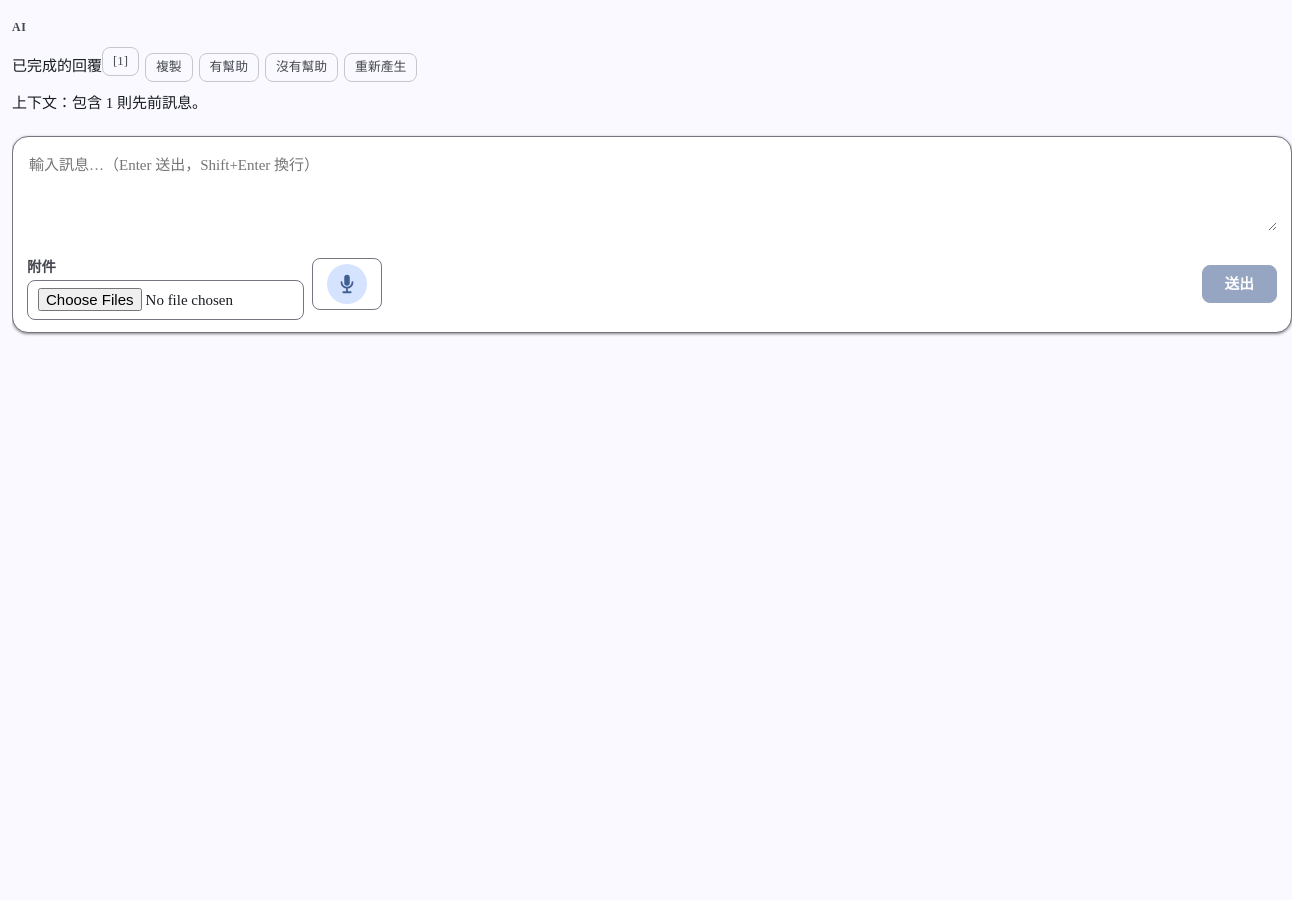
MessageThread citation preview (E03-S014) › closing the preview drawer removes it from the page
The image size is (1292, 900).
Step 1. Click the button named "檢視引用來源 1" → x=120, y=61, box [102,46,139,76]
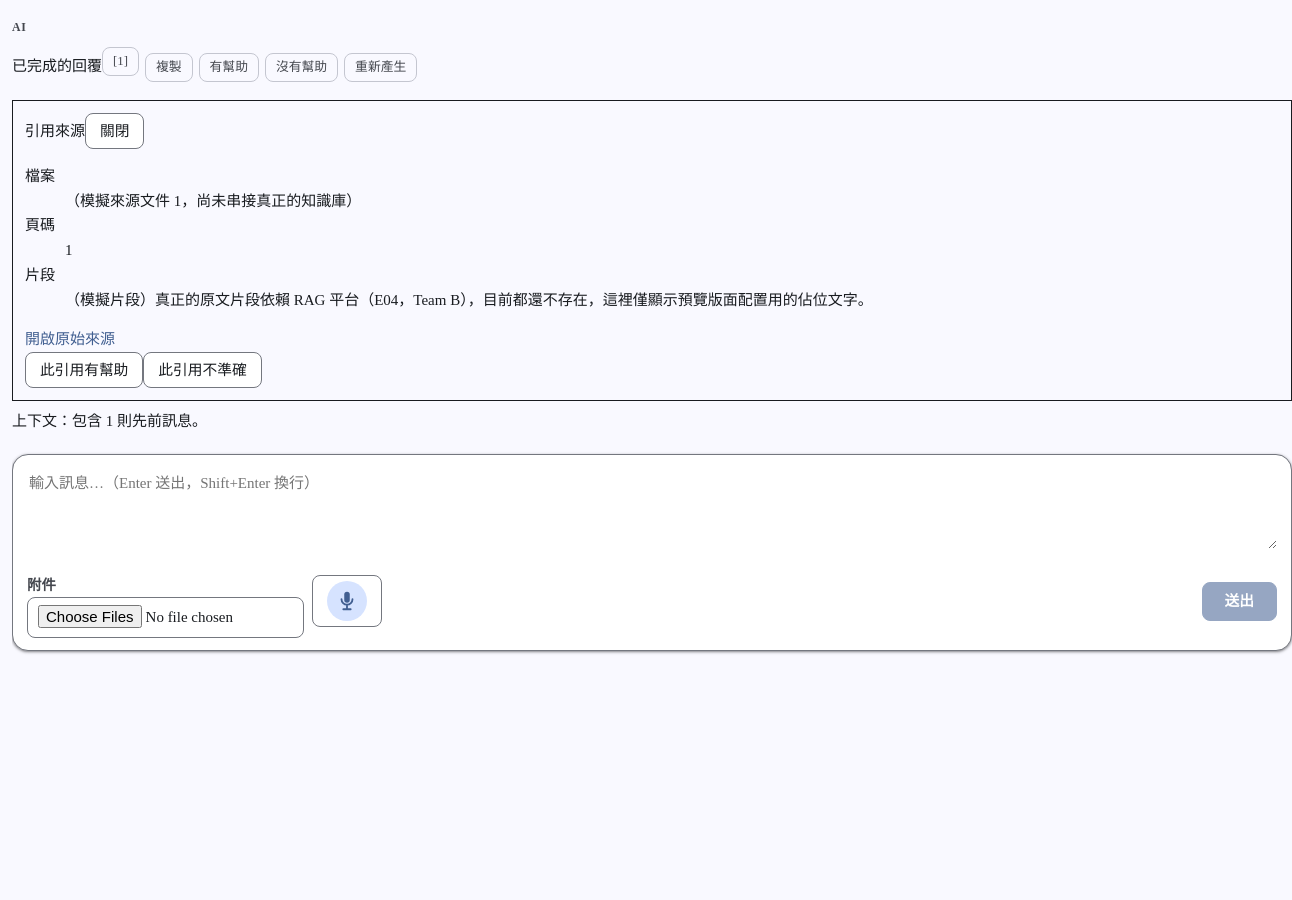
Expected: the element named "引用來源預覽" is shown, [12,100,1291,401]
Step 2. Click the button "關閉" → x=115, y=131, box [85,113,144,149]
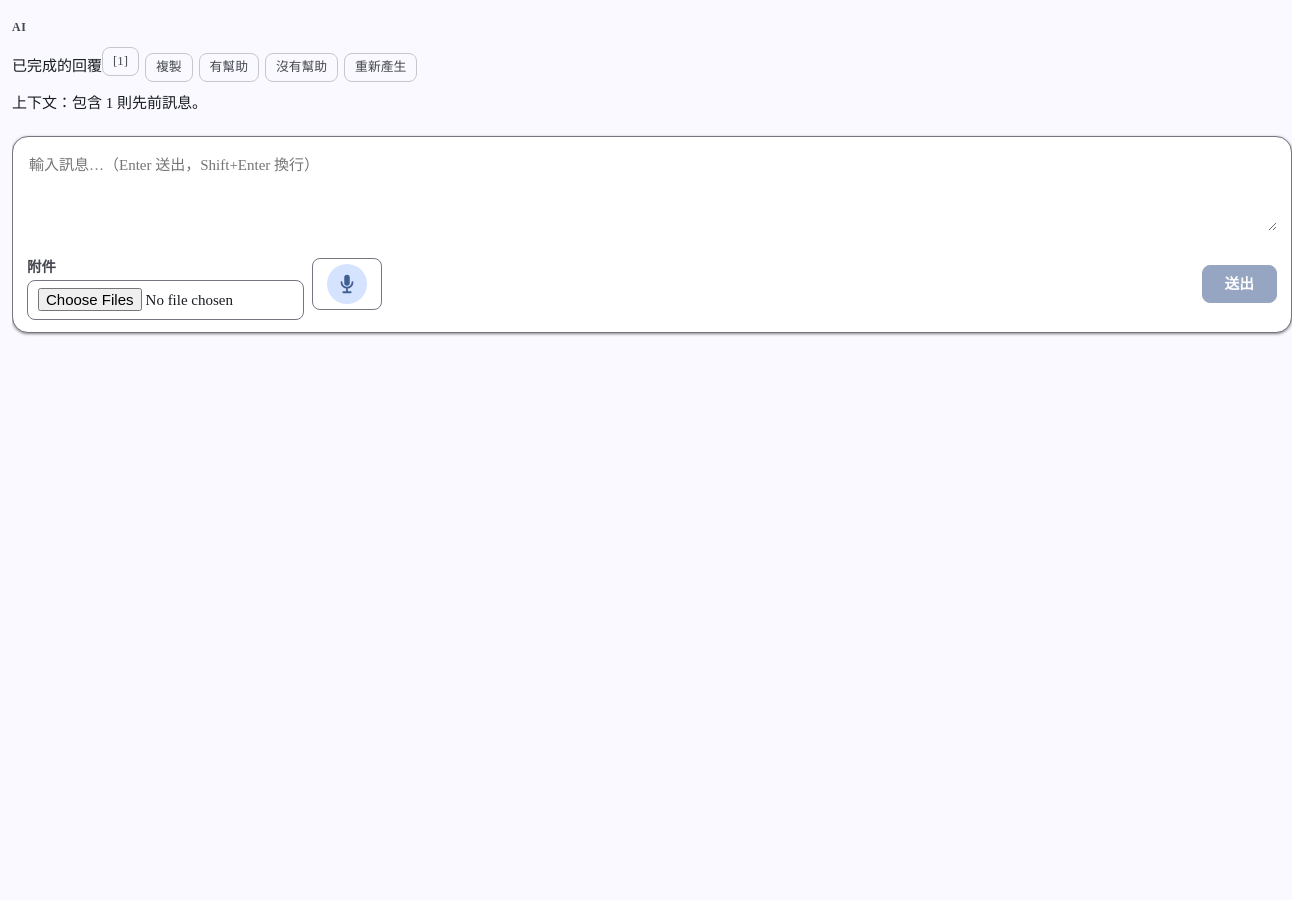
Expected: the element "引用來源預覽" is gone
